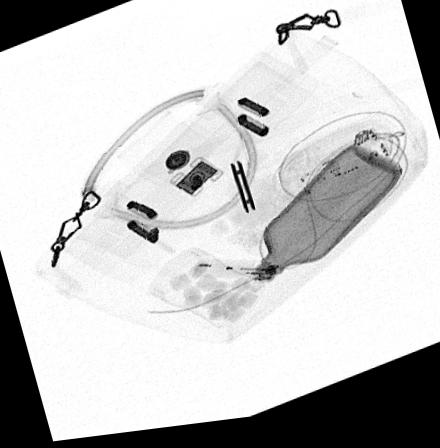Lighter: (190, 263, 287, 288)
